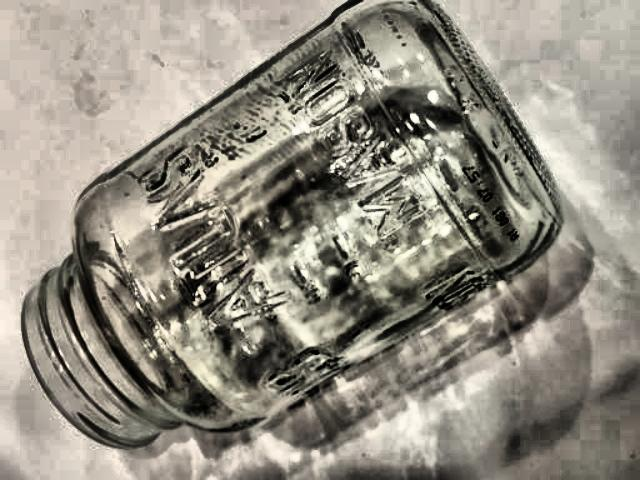Almennt: (28, 0, 570, 457)
